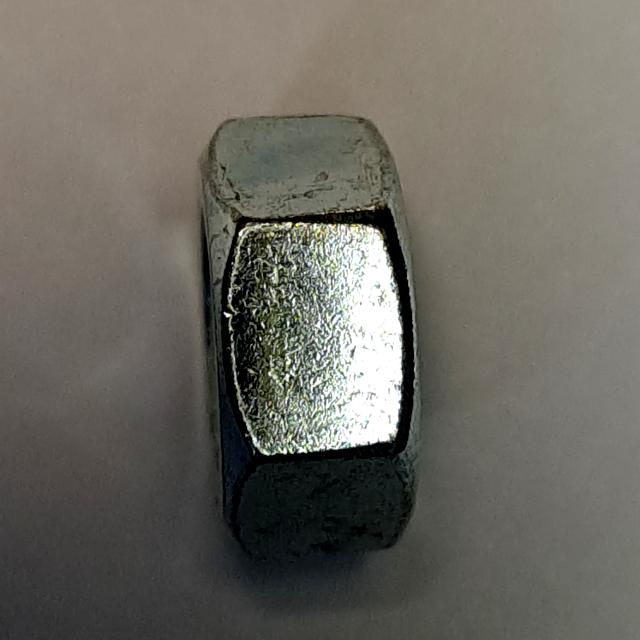Side_Excellent: (175, 100, 449, 585)
